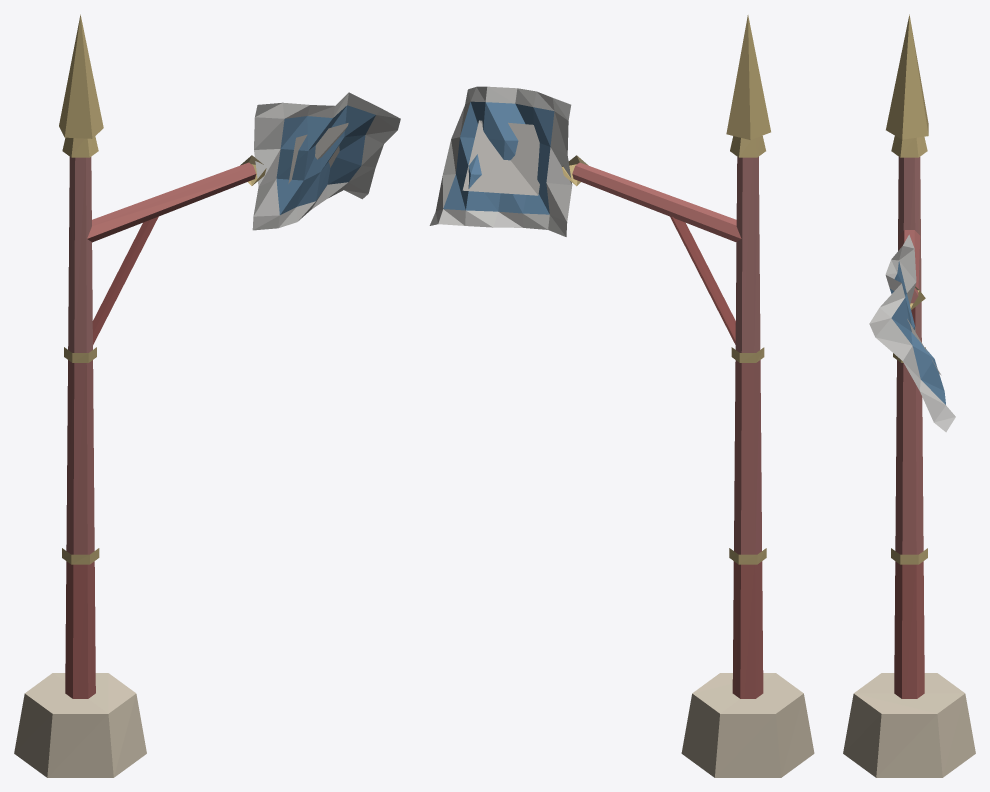
Rendered from flag.square.qingqi__pole.ground.miaogan__armFly.glb.
3 renders of one model, left to right at view 1: azimuth 30°, elevation 25°; view 2: azimuth 150°, elevation 25°; view 3: azimuth 270°, elevation 25°, orthographic.
Parts seen in each view (by area): view 1: flag.square.qingqi; view 2: flag.square.qingqi; view 3: flag.square.qingqi.
Part boxes in pixels (left/top/right/bottom): flag.square.qingqi: left=14, top=14, right=400, bottom=777; flag.square.qingqi: left=429, top=15, right=814, bottom=777; flag.square.qingqi: left=843, top=14, right=975, bottom=777.
Bounding box in the file's own units: 2.55 × 5.16 × 0.84.
